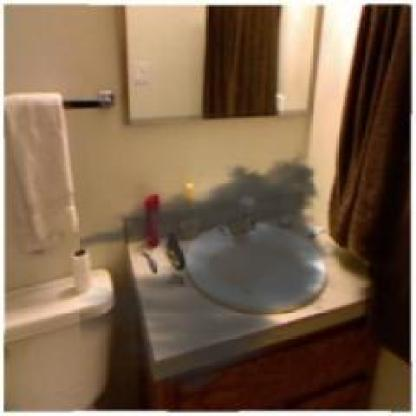Smoke: (80, 146, 341, 402)
